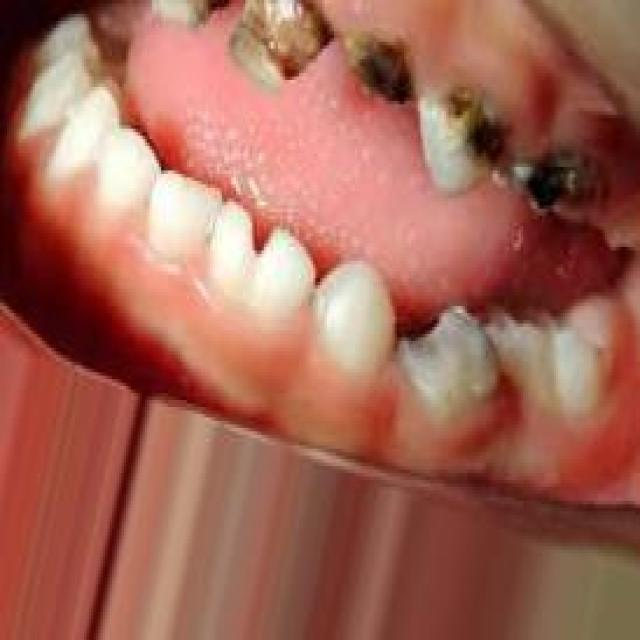caries: (419, 69, 517, 201), (504, 128, 614, 235), (227, 0, 334, 100), (336, 18, 418, 122)
